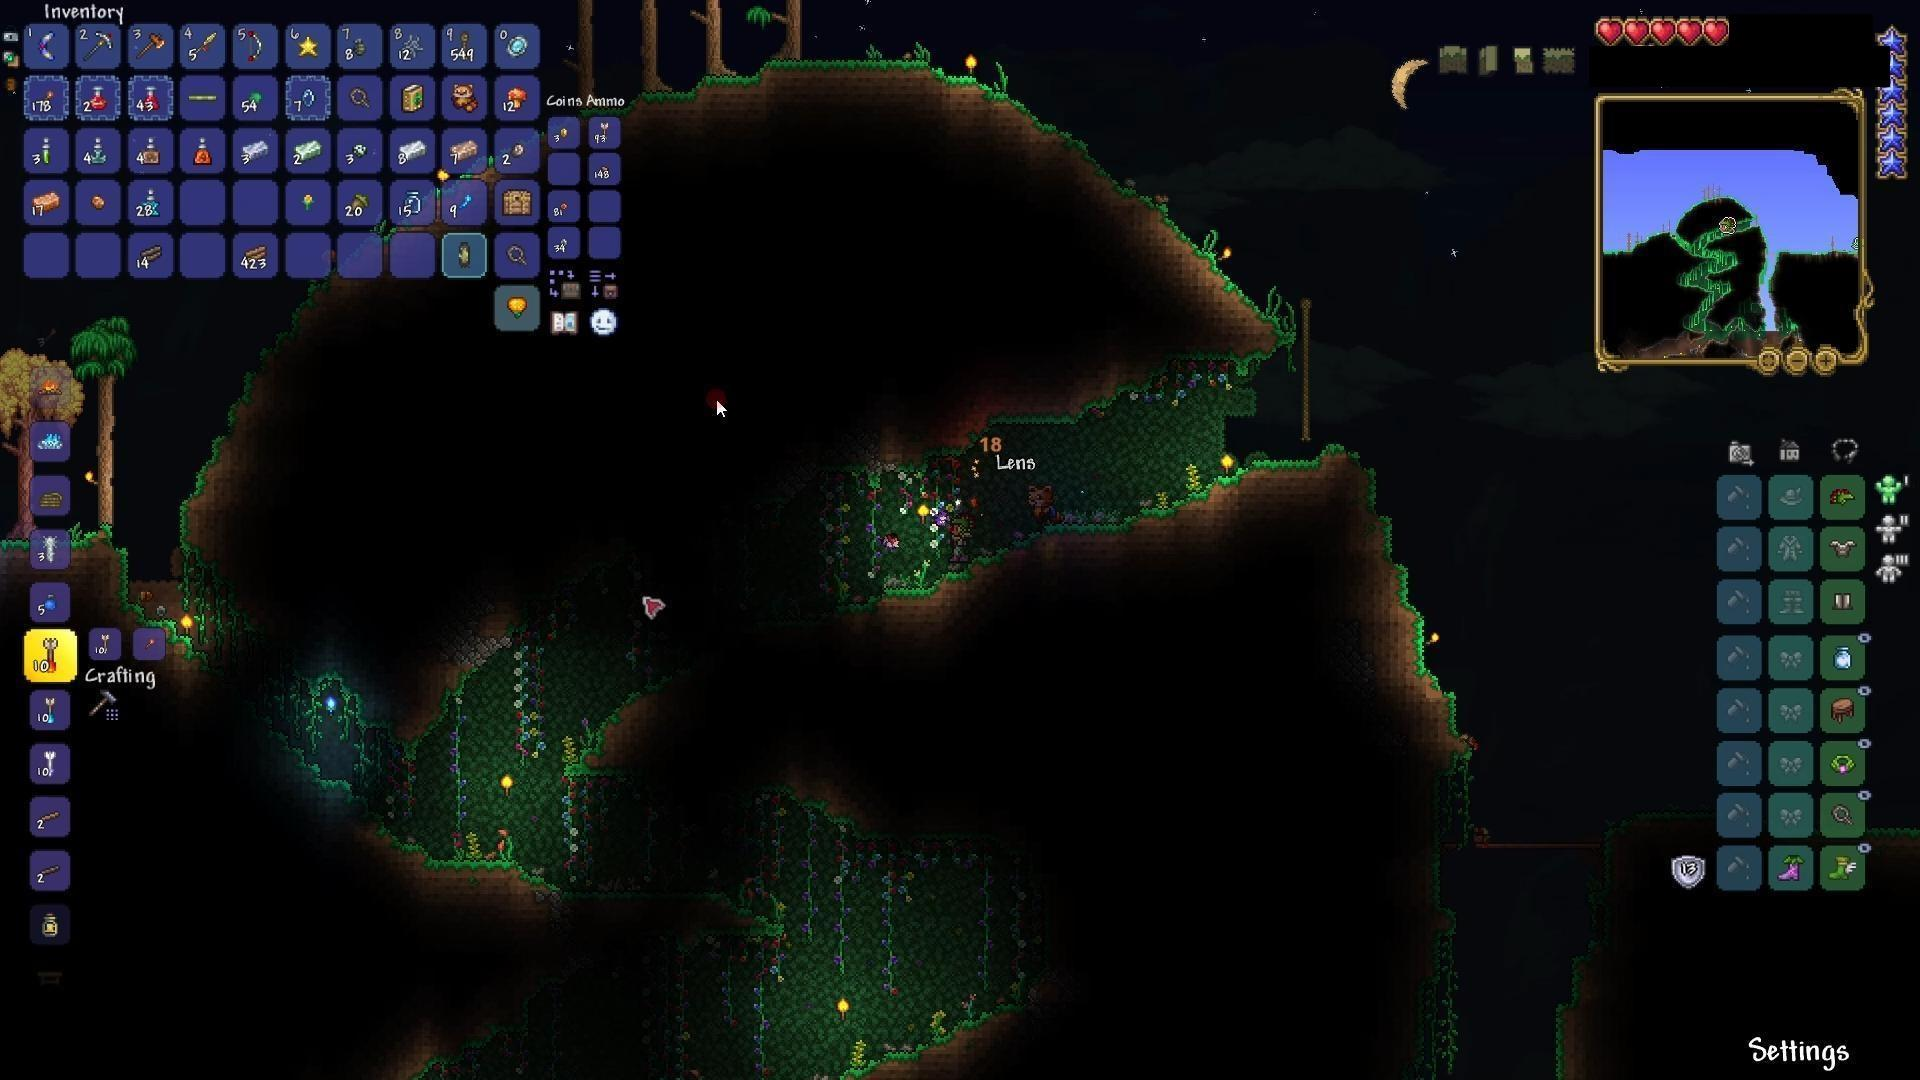dirt: (165, 315, 305, 542), (949, 75, 1135, 214), (645, 40, 957, 109), (1129, 204, 1287, 331), (1328, 438, 1427, 640), (827, 982, 1022, 1080), (1120, 454, 1309, 538), (1088, 356, 1288, 431), (877, 537, 1035, 617), (916, 406, 1079, 473), (559, 680, 674, 775), (385, 827, 553, 891), (262, 717, 360, 795), (109, 535, 185, 630), (1408, 655, 1473, 756)
heart: (1702, 17, 1733, 51), (1593, 16, 1626, 46), (1676, 15, 1704, 50), (1650, 16, 1676, 49), (1625, 15, 1651, 44)
tree: (88, 305, 157, 522)
